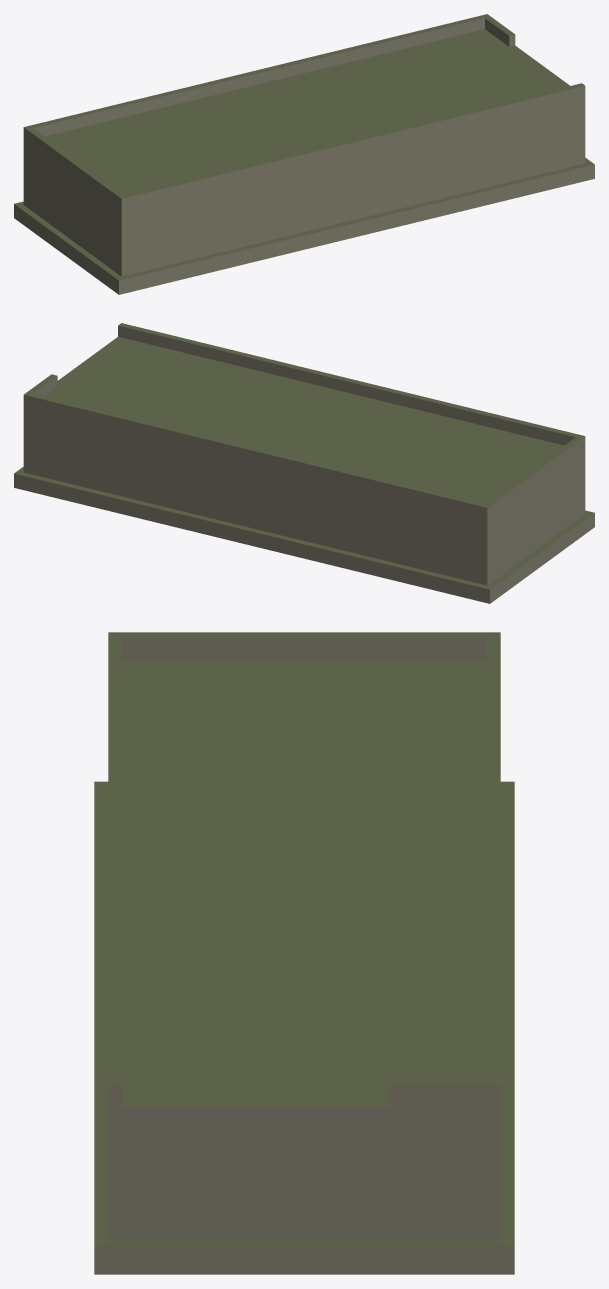
File: ruin-arcade-b.far-facades-v2.lod2.glb
3 views of the same model, one above another, from view 1: azimuth 30°, elevation 25°; view 2: azimuth 150°, elevation 25°; view 3: azimuth 270°, elevation 25° (orthographic). The views are drawn at different scales.
Visible parts, largest first — view 1: ruin-arcade-b; view 2: ruin-arcade-b; view 3: ruin-arcade-b.
Boxes of the visible parts, bbox=[...] form: ruin-arcade-b: bbox=[14, 14, 594, 294]; ruin-arcade-b: bbox=[14, 323, 594, 603]; ruin-arcade-b: bbox=[94, 632, 514, 1274].
Bounding box in the file's own units: 31.4 × 5.8 × 12.
